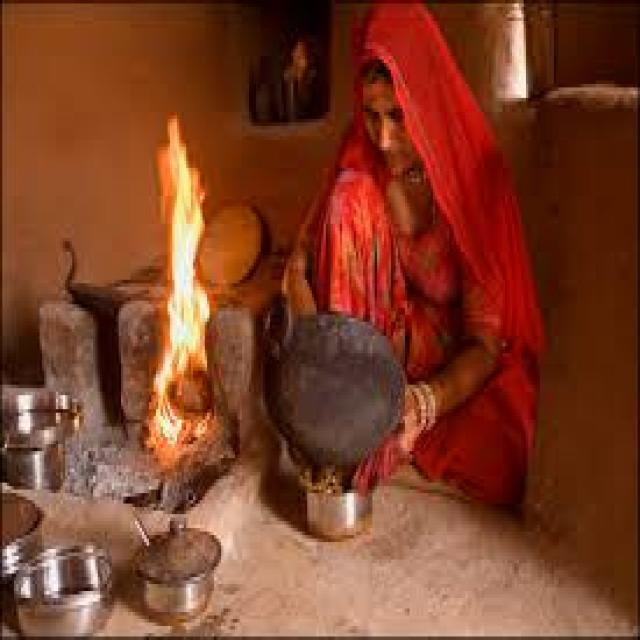fire: (171, 167, 205, 284), (160, 325, 210, 373), (144, 400, 182, 448), (167, 283, 210, 324)
